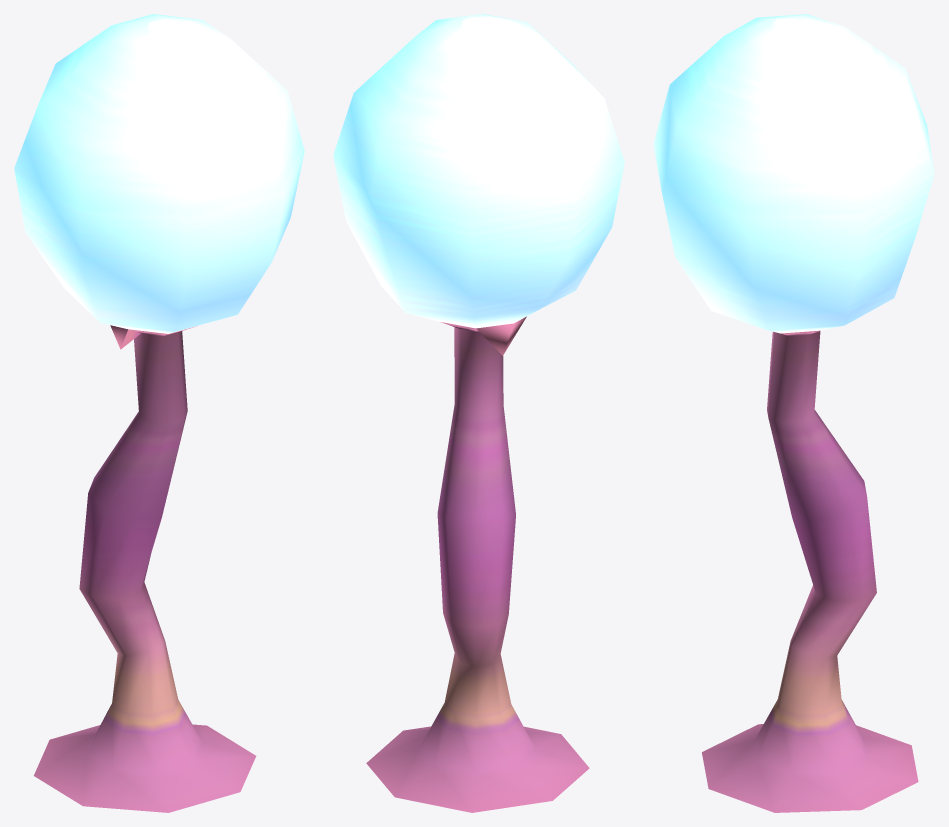
The model's file is media_seta01.fbx.
3 views of the same model, side by side, from view 1: azimuth 30°, elevation 25°; view 2: azimuth 150°, elevation 25°; view 3: azimuth 270°, elevation 25° (orthographic).
Visible parts, largest first — view 1: SetaM01; view 2: SetaM01; view 3: SetaM01.
Part boxes in pixels (x1,y1,x2,y2): SetaM01: (14,14,304,812); SetaM01: (333,14,624,812); SetaM01: (653,14,934,812).
Bounding box in the file's own units: 1255 × 3656 × 1247.
